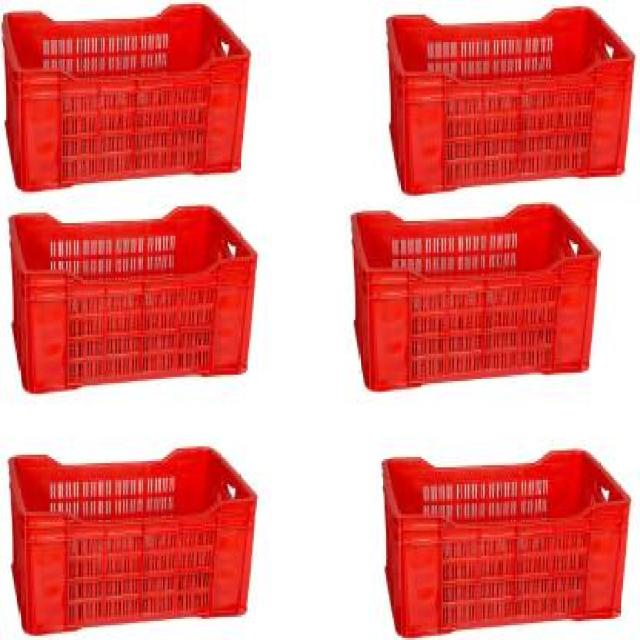basket: (345, 189, 613, 393), (1, 191, 268, 395), (5, 444, 264, 636), (381, 447, 638, 639)
